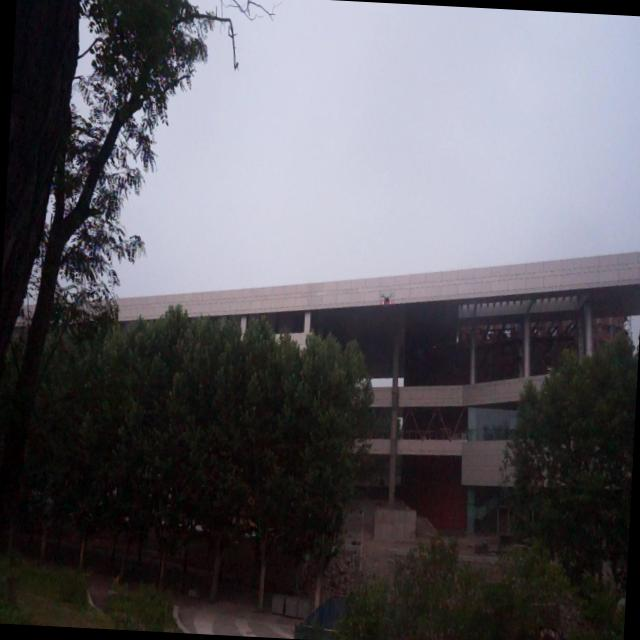drone: (376, 289, 396, 311)
